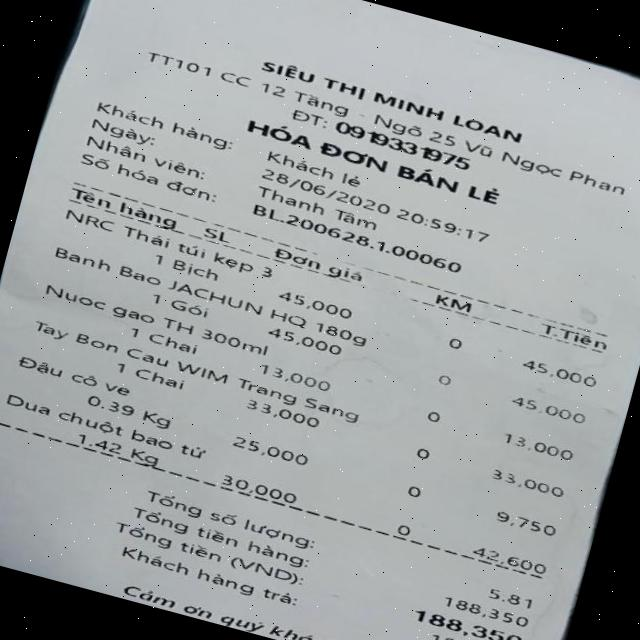Date: (246, 162, 396, 220)
Store_Name: (246, 46, 533, 149)
amount_number: (409, 601, 529, 640)
label_total: (108, 516, 306, 592)
